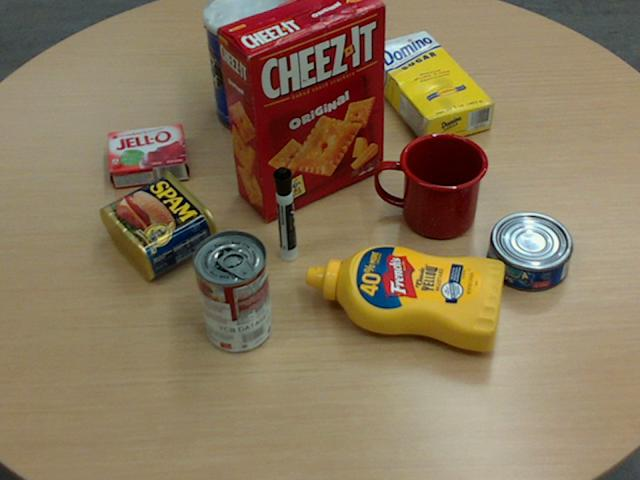cracker_box: (216, 0, 385, 220)
gelatin_box: (107, 122, 187, 186)
large_marker: (272, 167, 298, 262)
master_chef_can: (202, 0, 295, 133)
mug: (375, 131, 488, 238)
mustard_bottle: (305, 245, 504, 350)
potted_meat_can: (100, 169, 219, 279)
sugar_box: (363, 29, 494, 146)
tomato_soup_can: (190, 229, 271, 351)
tuna_fish_can: (486, 211, 572, 290)
